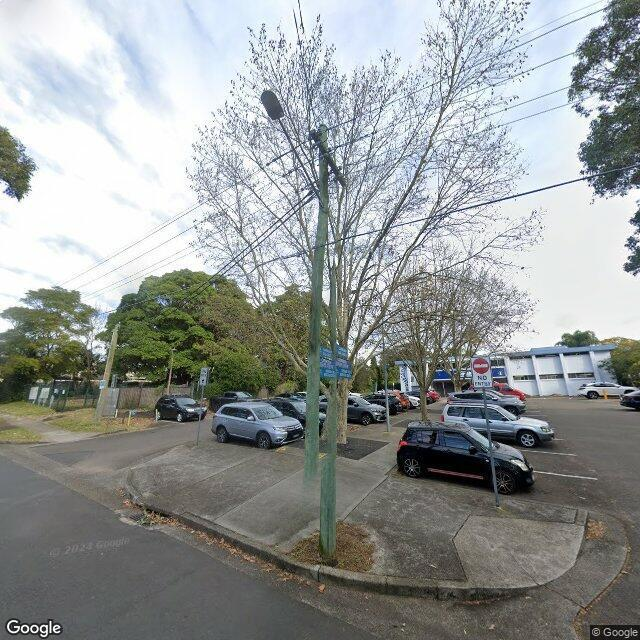crossarm: (309, 128, 348, 188)
streetlight: (260, 90, 326, 208)
timber-pole: (302, 123, 336, 563)
